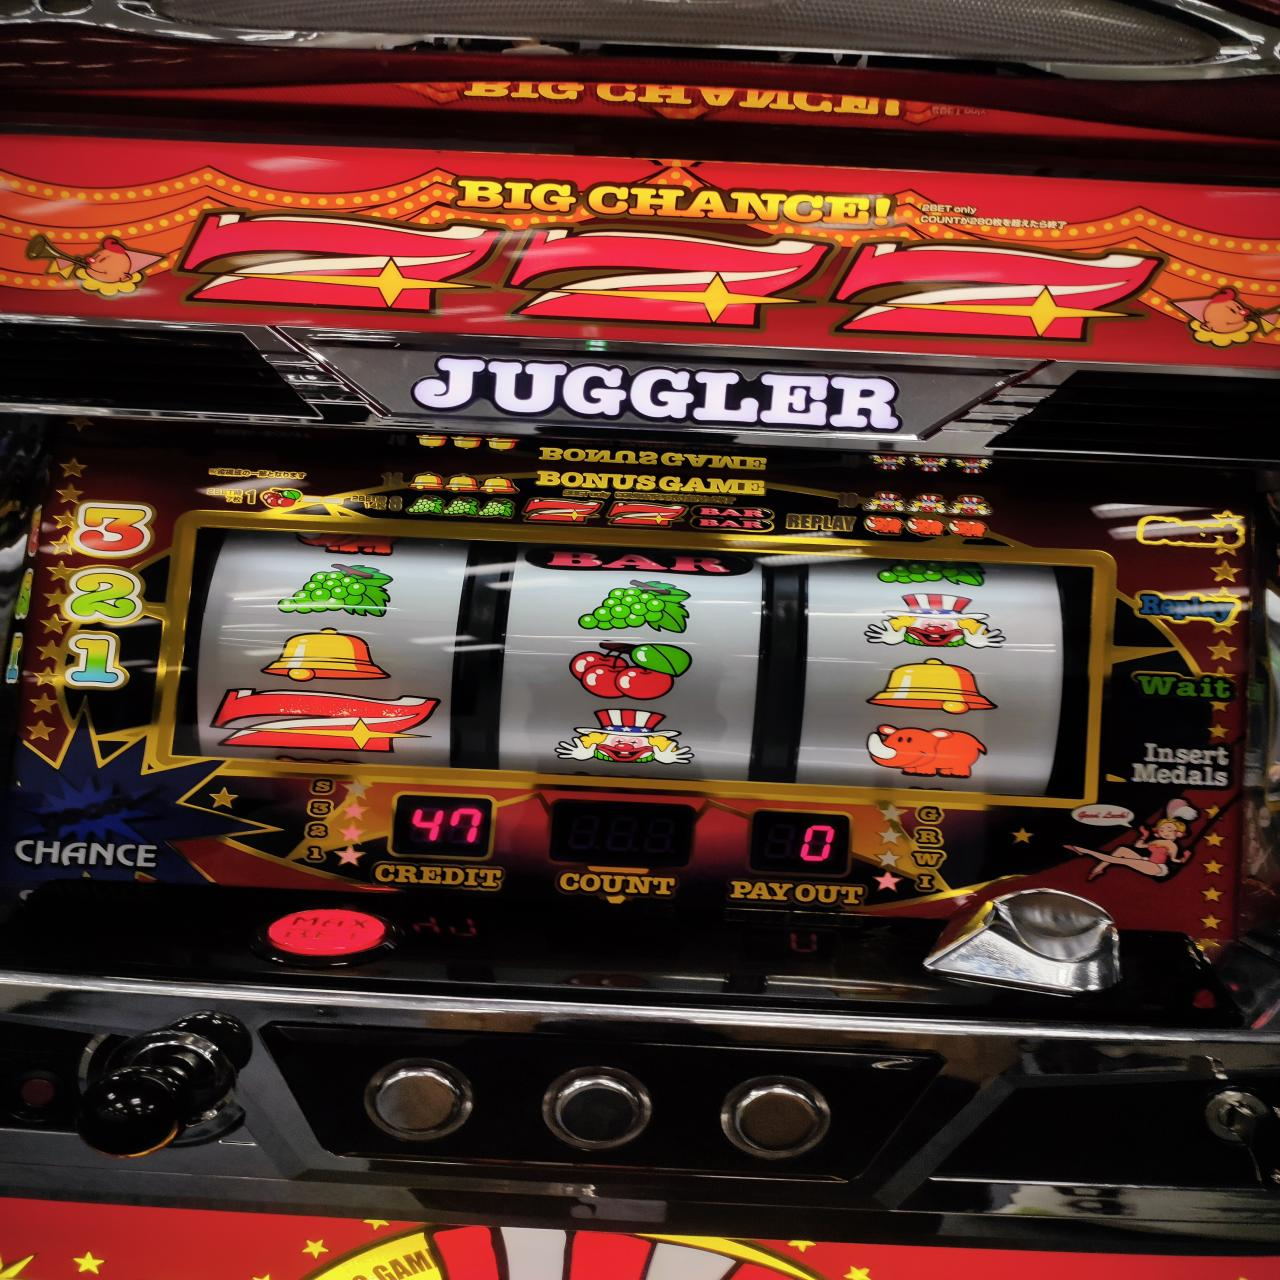7: (216, 687, 442, 755)
8: (862, 726, 993, 779)
Display: (188, 523, 1096, 804)
bell: (863, 659, 999, 716), (259, 625, 389, 682)
cherry: (567, 639, 694, 699)
clown: (859, 591, 1015, 649), (552, 708, 694, 767)
grape: (573, 579, 695, 634), (273, 561, 389, 617)
